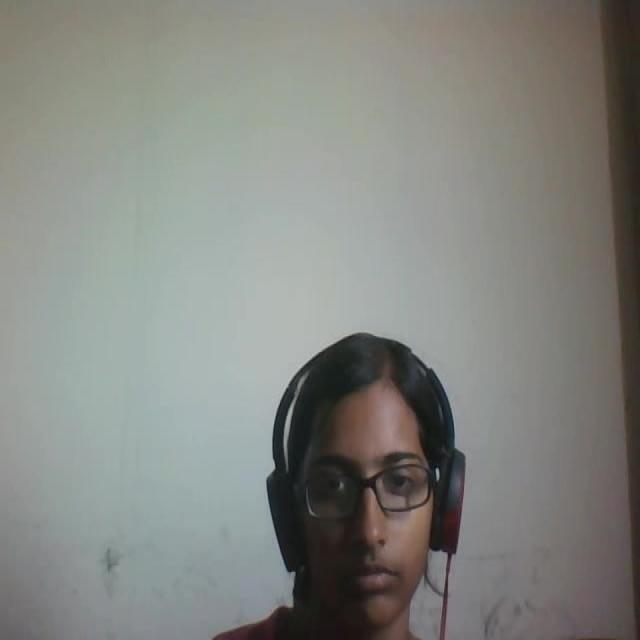Engaged: (253, 296, 471, 640)
